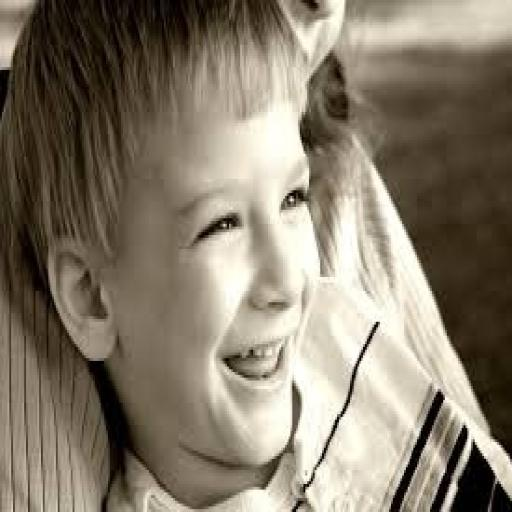laughing: (2, 3, 504, 506)
